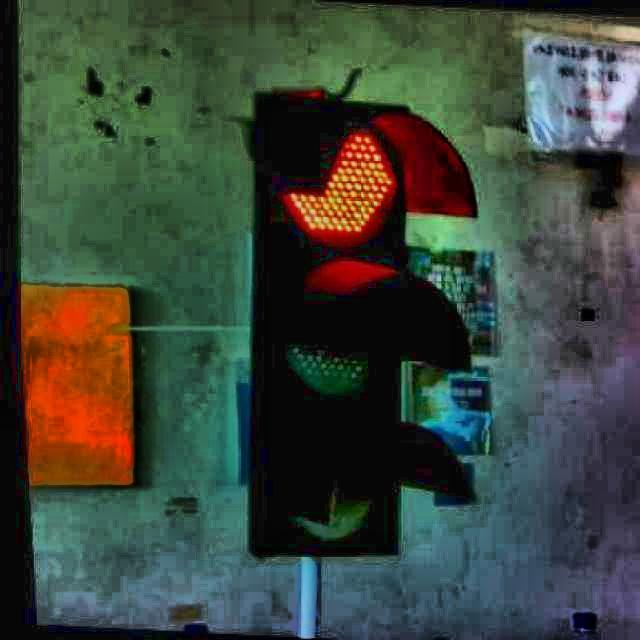red: (258, 96, 416, 557)
